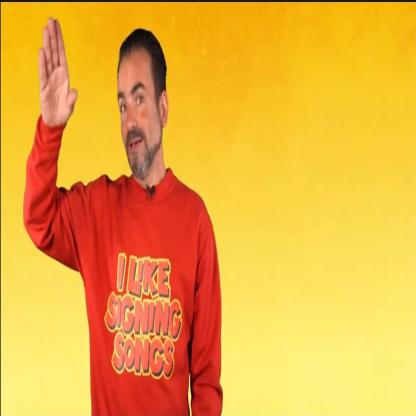Hello: (21, 5, 170, 230)
